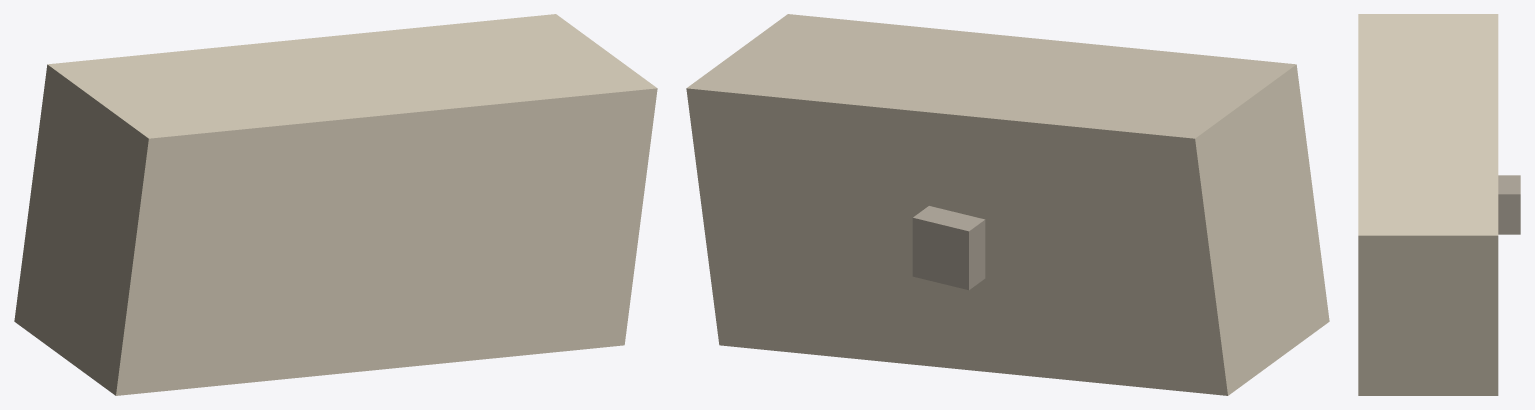
The model's file is zarqa_3618_3204.glb.
3 views of the same model, side by side, from view 1: azimuth 30°, elevation 25°; view 2: azimuth 150°, elevation 25°; view 3: azimuth 270°, elevation 25° (orthographic). The views are drawn at different scales.
Visible parts, largest first — view 1: Building_; view 2: Building_, Roof access hut; view 3: Building_, Roof access hut.
Boxes of the visible parts, x1,y1,x2,y2 form: Building_: (14,14,657,395); Building_: (686,14,1329,395); Roof access hut: (912,206,985,290); Building_: (1358,14,1498,395); Roof access hut: (1498,175,1520,234).
Bounding box in the file's own units: 23.09 × 13.15 × 8.7.
